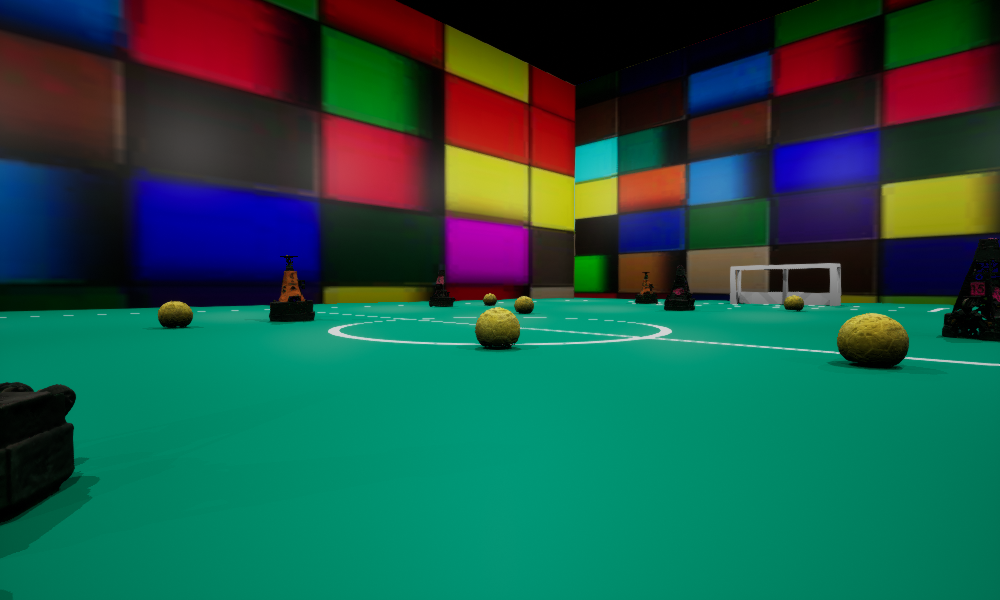b: (837, 313, 908, 366), (475, 307, 519, 348), (157, 301, 192, 327), (514, 296, 533, 313), (784, 295, 803, 310), (483, 293, 496, 304)
o: (269, 255, 314, 321), (635, 272, 657, 303)
p1: (942, 238, 999, 341), (664, 265, 695, 310)
p2: (0, 382, 75, 522), (429, 270, 455, 306)
